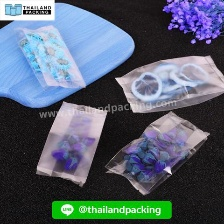snack: (99, 106, 214, 199), (108, 48, 224, 116), (29, 95, 112, 190), (8, 20, 90, 96)
